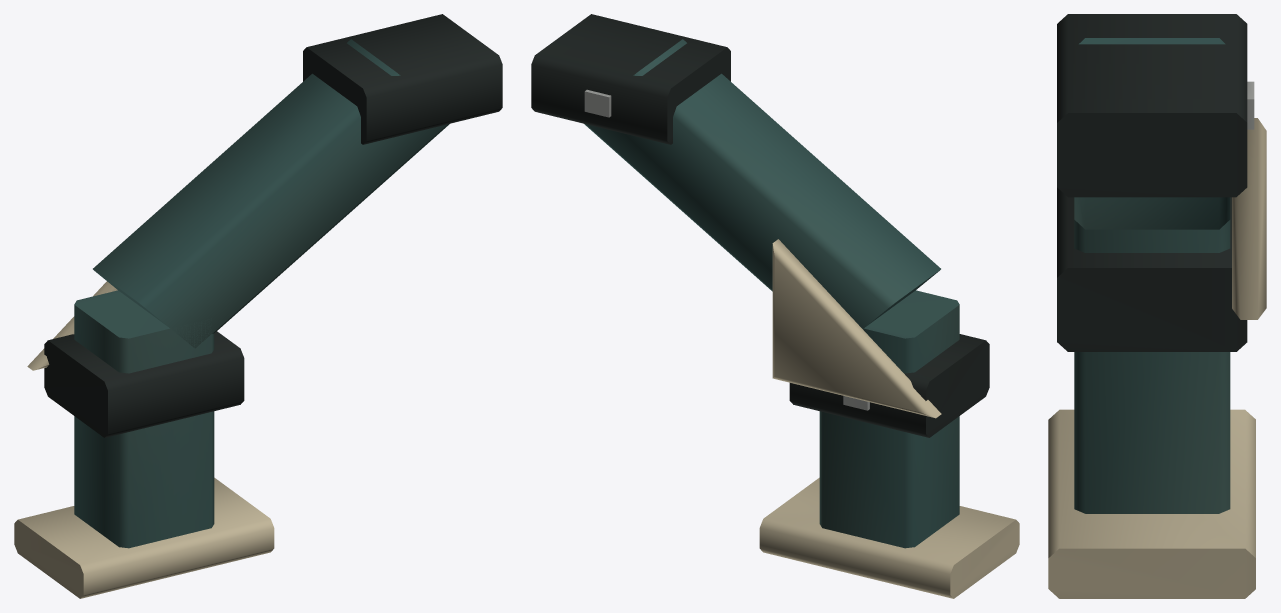
Rendered from strut_bent.glb.
The picture shows the model from 3 angles, left to right: view 1: azimuth 30°, elevation 25°; view 2: azimuth 150°, elevation 25°; view 3: azimuth 270°, elevation 25°; orthographic projection. The views are drawn at different scales.
Visible parts, largest first — view 1: StrutBent; view 2: StrutBent; view 3: StrutBent.
Part boxes in pixels (left/top/right/bottom): StrutBent: left=14, top=14, right=502, bottom=598; StrutBent: left=531, top=14, right=1019, bottom=598; StrutBent: left=1048, top=14, right=1266, bottom=598.
Bounding box in the file's own units: 2 × 2 × 0.6.
